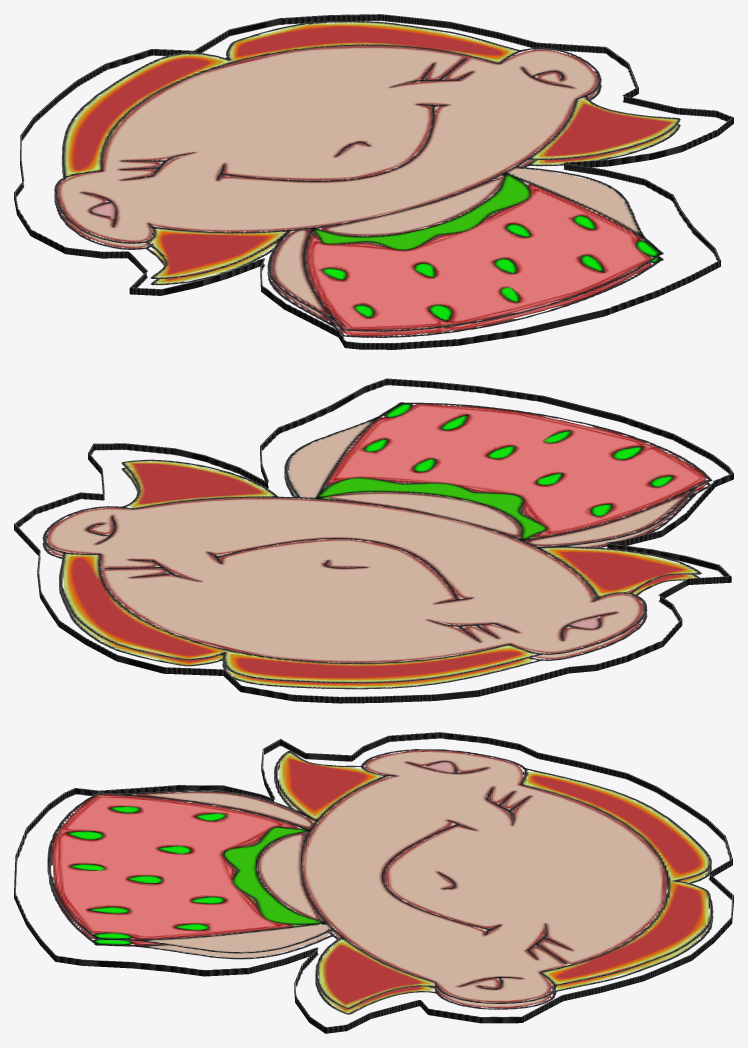
The model's file is RealGirl.fbx.
The picture shows the model from 3 angles, top to bottom: view 1: azimuth 30°, elevation 25°; view 2: azimuth 150°, elevation 25°; view 3: azimuth 270°, elevation 25°; orthographic projection. The views are drawn at different scales.
Visible parts, largest first — view 1: Cube; view 2: Cube; view 3: Cube.
Boxes of the visible parts, x1=… form: Cube: x1=14, y1=14, x2=733, y2=349; Cube: x1=14, y1=378, x2=733, y2=703; Cube: x1=14, y1=732, x2=733, y2=1033.
Bounding box in the file's own units: 1034 × 9.4 × 1063.
